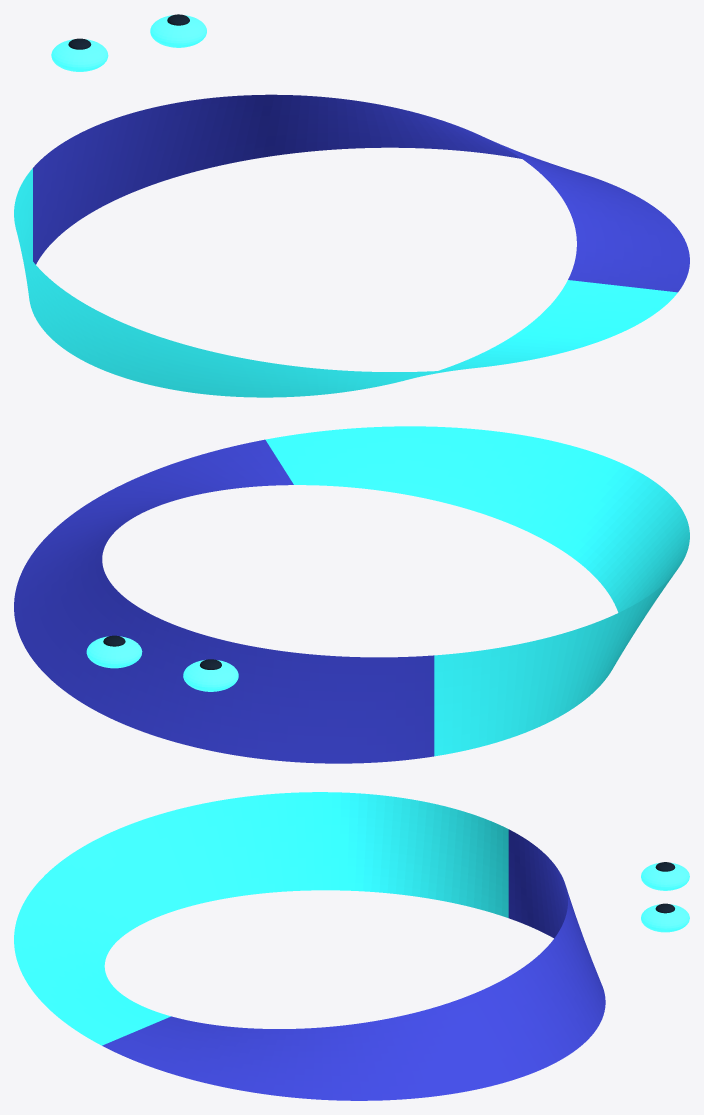
File: mobius-u-animated.glb
The picture shows the model from 3 angles, top to bottom: view 1: azimuth 30°, elevation 25°; view 2: azimuth 150°, elevation 25°; view 3: azimuth 270°, elevation 25°; orthographic projection. The views are drawn at different scales.
Visible parts, largest first — view 1: MobiusBody, Eye_Right, Eye_Left; view 2: MobiusBody, Eye_Right, Eye_Left; view 3: MobiusBody, Eye_Left, Eye_Right.
Part boxes in pixels (x1,y1,x2,y2): MobiusBody: (14,94,689,397); Eye_Right: (150,15,206,47); Eye_Left: (51,39,108,71); MobiusBody: (14,426,689,763); Eye_Right: (86,636,142,668); Eye_Left: (183,660,238,691); MobiusBody: (14,792,605,1100); Eye_Left: (641,862,689,890); Eye_Right: (641,904,689,932).
Bounding box in the file's own units: 4.09 × 0.856 × 4.68.
